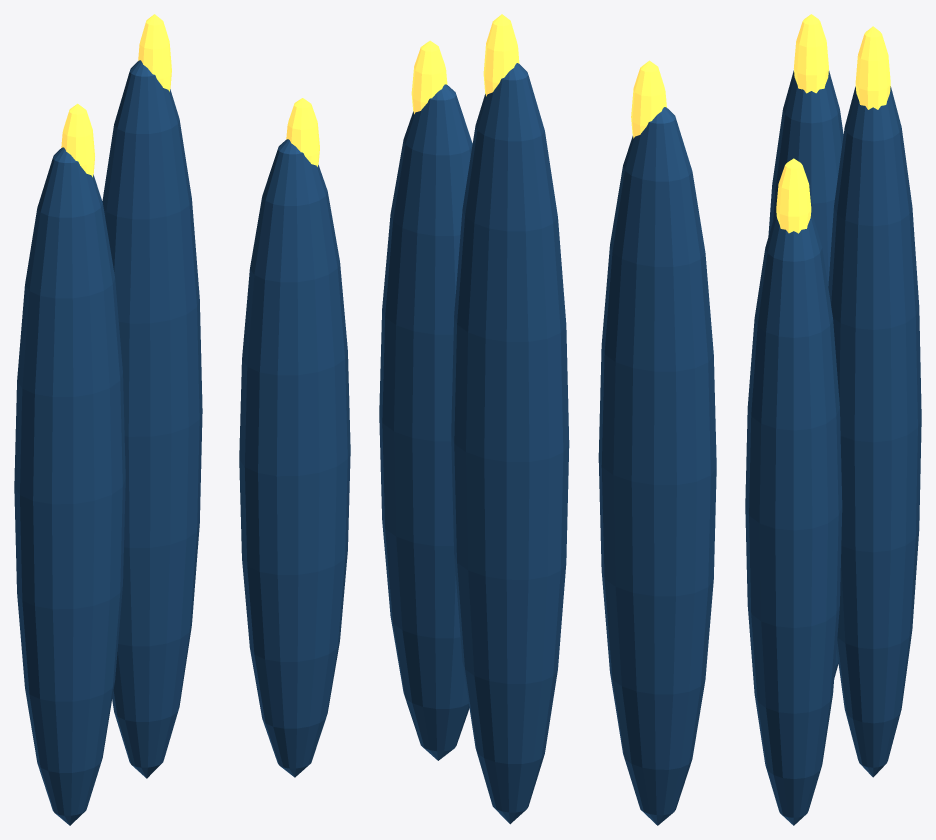
Rendered from flame-towers.glb.
3 renders of one model, left to right at view 1: azimuth 30°, elevation 25°; view 2: azimuth 150°, elevation 25°; view 3: azimuth 270°, elevation 25°, orthographic. The views are drawn at different scales.
Visible parts, largest first — view 1: flame-towers; view 2: flame-towers; view 3: flame-towers.
Boxes of the visible parts, <box> form: flame-towers: <box>14,14,350,825</box>; flame-towers: <box>379,14,716,825</box>; flame-towers: <box>745,14,921,825</box>.
Bounding box in the file's own units: 82 × 189 × 40.
